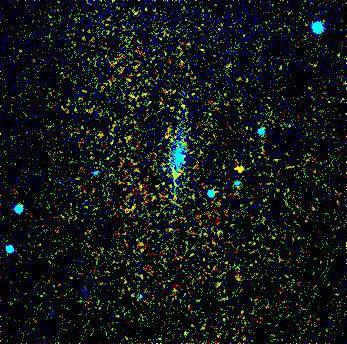star: (226, 157, 256, 187)
